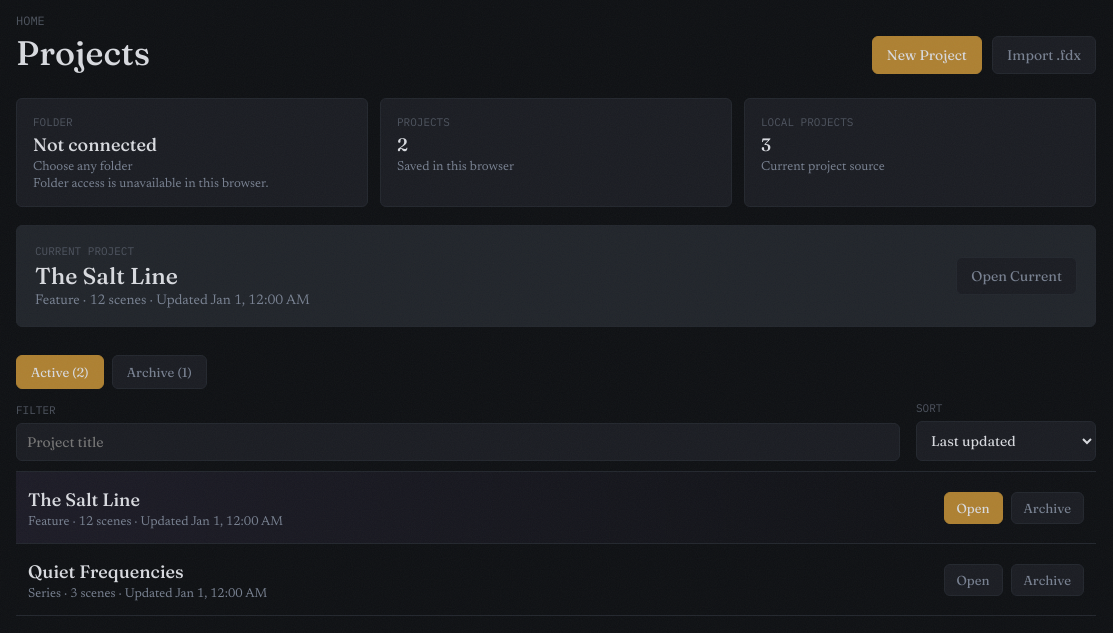
HomeSurface › project Delete (Slice 5a) › clears the filter when switching between Active and Archive views (Slice 5a-2)
This screenshot has width=1113, height=633.
In the field named "Filter projects": (458, 442) [16,423,900,461], type "salt"
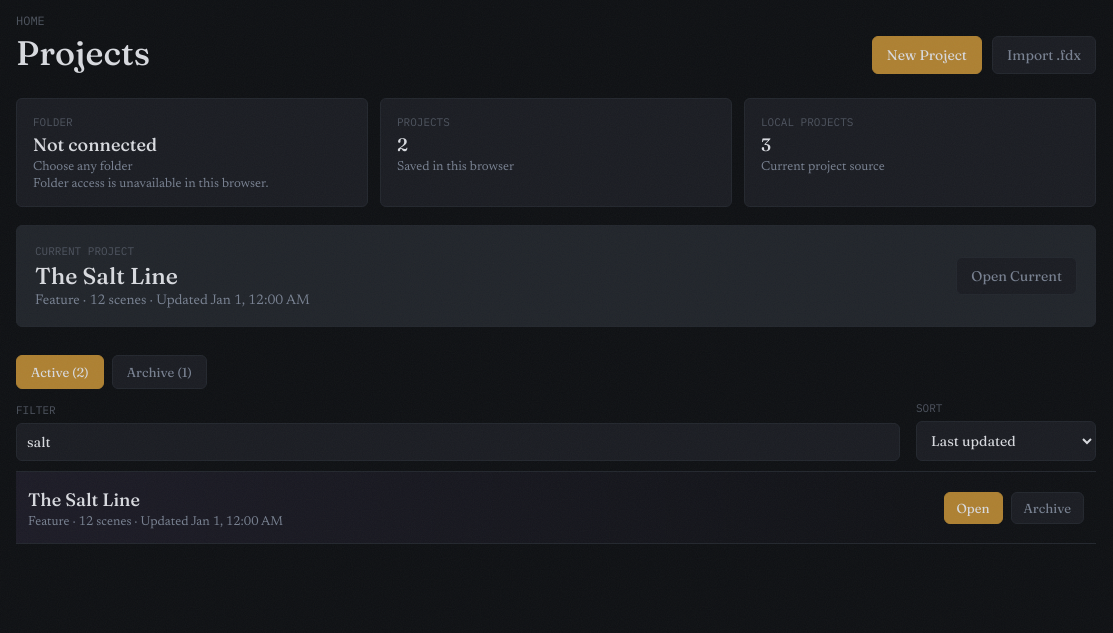
Click the tab "Archive (1)": (159, 372) [112,355,207,389]
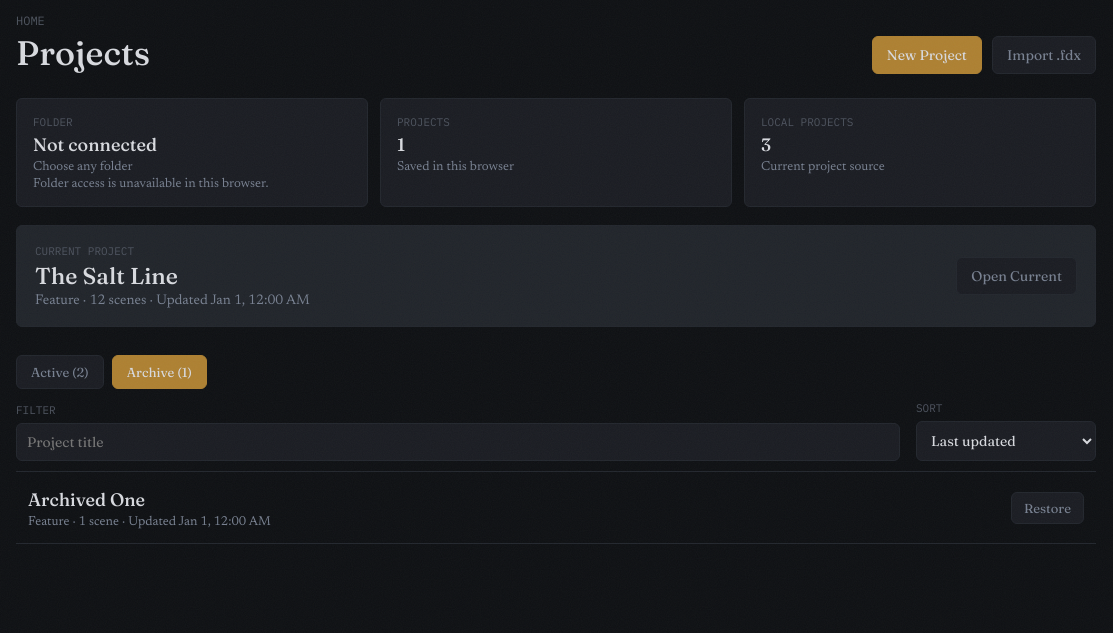
Expected: the field named "Filter projects" is empty, [16,423,900,461]
Expected: the heading "Archived One" is shown, [28,488,145,510]
